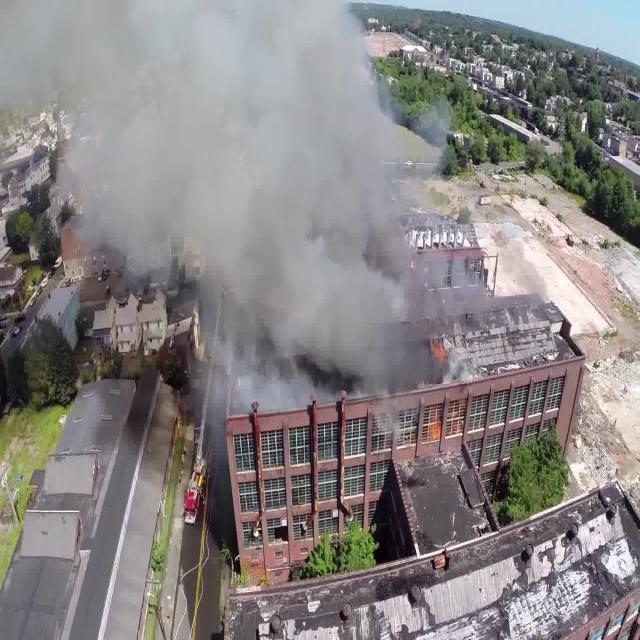smoke: (0, 1, 380, 302), (200, 311, 407, 411)
